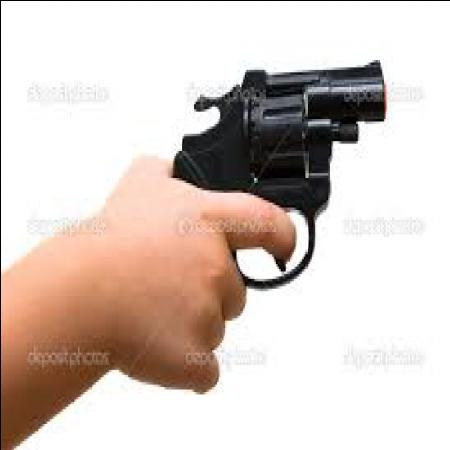Pistol: (164, 56, 388, 292)
